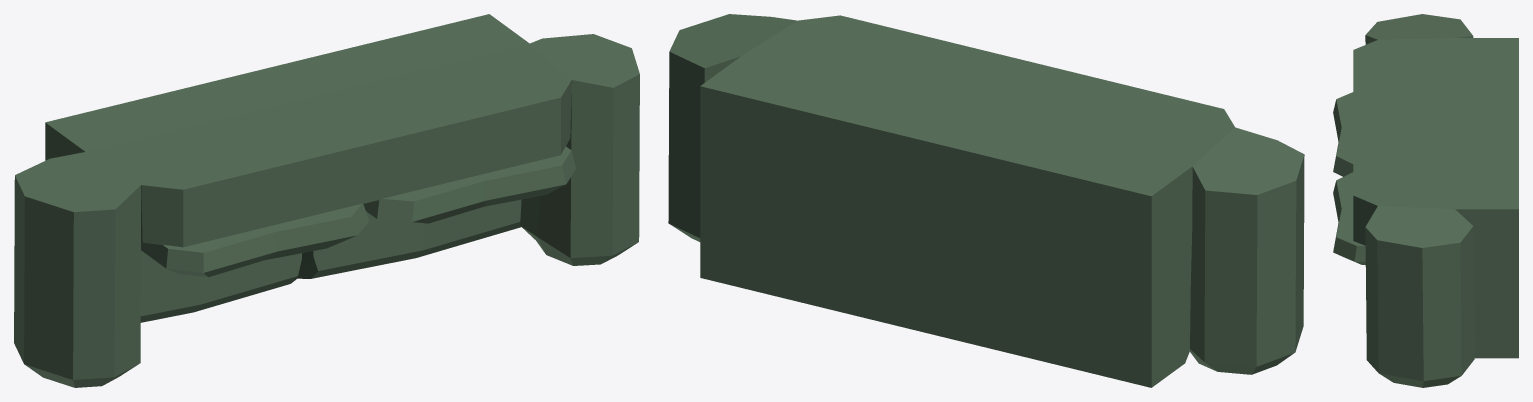
File: couch.glb
3 views of the same model, side by side, from view 1: azimuth 30°, elevation 25°; view 2: azimuth 150°, elevation 25°; view 3: azimuth 270°, elevation 25° (orthographic). The views are drawn at different scales.
Parts seen in each view (by area): view 1: Cube; view 2: Cube; view 3: Cube.
Part boxes in pixels (box(x1,y1,x2,y2)): Cube: box(14, 14, 639, 387); Cube: box(668, 14, 1304, 387); Cube: box(1333, 14, 1518, 387).
Size of the model in its own units: 8.68 by 2.69 by 2.91.
